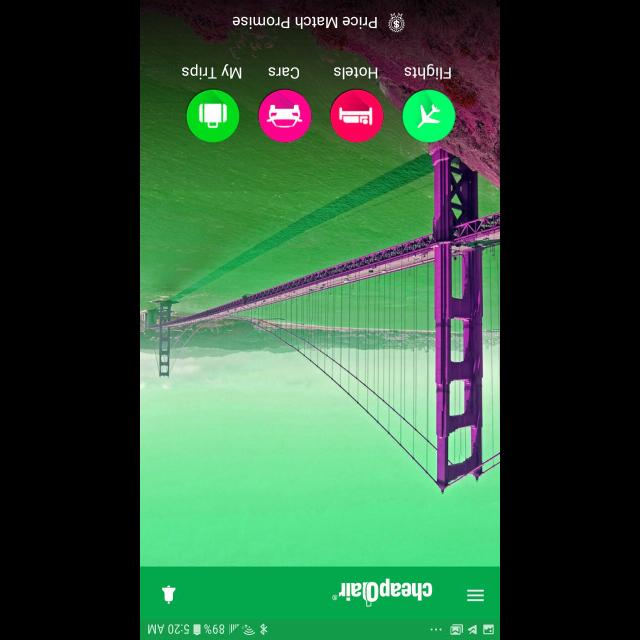backgroundimage: (140, 0, 500, 566)
icon: (187, 90, 240, 142), (162, 584, 176, 604), (466, 588, 484, 602)
image: (402, 89, 456, 143), (329, 90, 383, 142), (258, 90, 312, 142), (332, 578, 432, 606), (388, 13, 404, 33)
text: (232, 16, 378, 29), (182, 64, 242, 80), (404, 64, 452, 80), (334, 66, 378, 80), (268, 66, 300, 80)
uppertaskbar: (140, 618, 500, 640)
